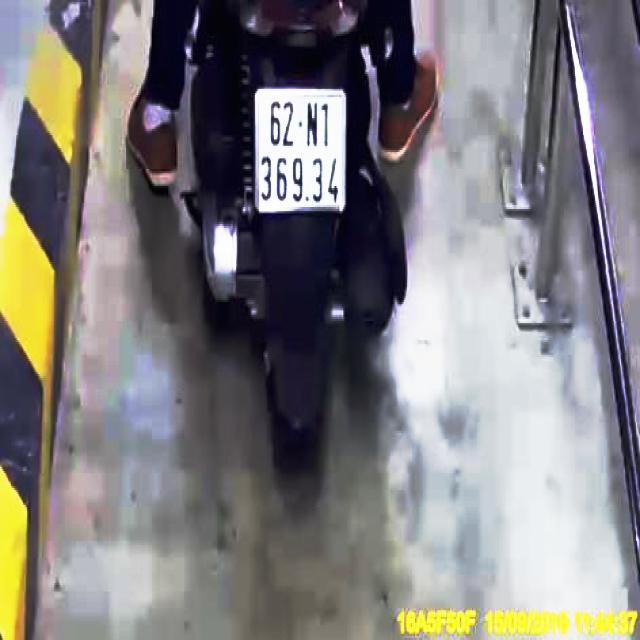license_plate: (258, 94, 349, 215)
